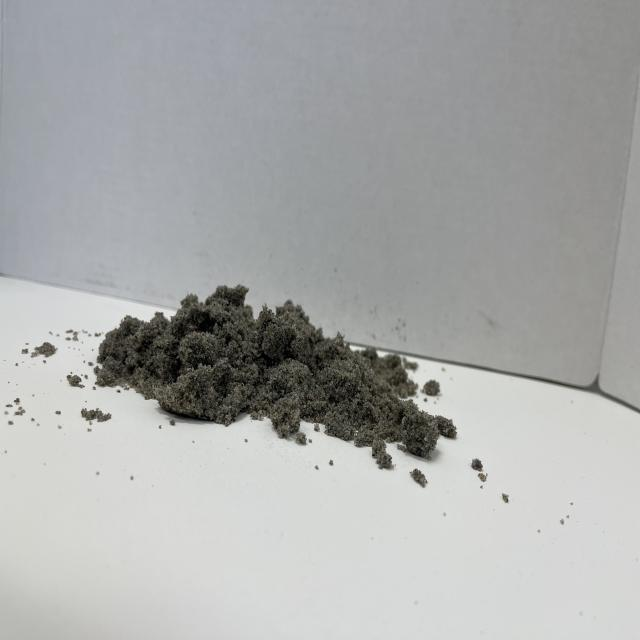sand: (107, 277, 448, 458)
